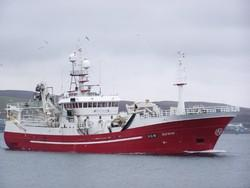otherboat: (2, 34, 242, 154)
